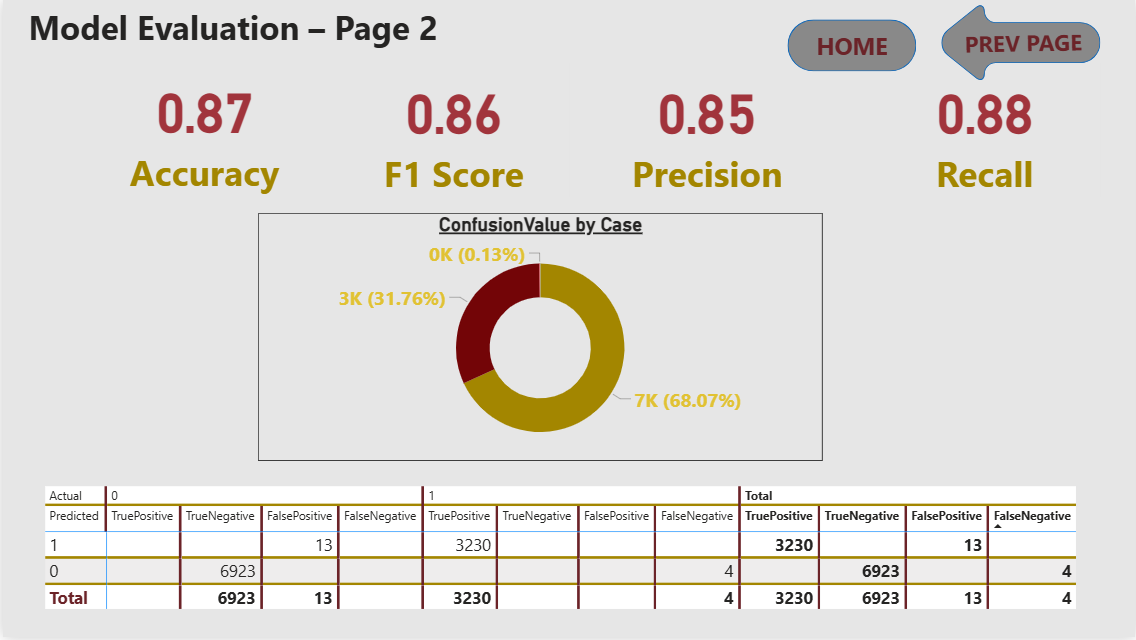

What the dashboard file says about the page in this screenshot:
{"tool":"powerbi","page":{"name":"Model Evaluation – Page 2","canvas":[1280,720],"ordinal":1},"visuals":[{"type":"pivotTable","fields":{"Values":["model_results.TruePositive","model_results.TrueNegative","model_results.FalsePositive","model_results.FalseNegative"],"Rows":["model_results.Predicted"],"Columns":["model_results.Actual"]},"box":[42.2,544.4,1197.8,153.3],"z":0},{"type":"donutChart","fields":{"Y":["ConfusionLabels.ConfusionValue"],"Category":["ConfusionLabels.Case"]},"box":[288.9,240,637.8,280],"z":1000},{"type":"card","fields":{"Values":["Sum(Table.Value)"]},"box":[75.6,53.3,302.2,186.7],"z":2000},{"type":"card","fields":{"Values":["Sum(Table.Value)"]},"box":[377.8,71.1,262.2,151.1],"z":3000},{"type":"card","fields":{"Values":["Sum(Table.Value)"]},"box":[664.4,71.1,262.2,151.1],"z":4000},{"type":"card","fields":{"Values":["Sum(Table.Value)"]},"box":[977.8,71.1,262.2,151.1],"z":5000},{"type":"textbox","box":[24.4,0,484.4,71.1],"z":6000},{"type":"shape","box":[886.3,22.7,145.5,58.6],"z":7000},{"type":"shape","box":[1048.8,0,190.9,96.4],"z":8000}]}

Visuals, with their boxes in screenshot pixels (x1, y1, x2, y2), scaled from the page's 1280x720 canvas onto the 1136x640 screenshot:
pivotTable - model_results.TruePositive x model_results.TrueNegative: 37, 484, 1100, 620
donutChart - ConfusionLabels.ConfusionValue x ConfusionLabels.Case: 256, 213, 822, 462
card - Sum(Table.Value): 67, 47, 335, 213
card - Sum(Table.Value): 335, 63, 568, 198
card - Sum(Table.Value): 590, 63, 822, 198
card - Sum(Table.Value): 868, 63, 1100, 198
textbox: 22, 0, 452, 63
shape: 787, 20, 916, 72
shape: 931, 0, 1100, 86
